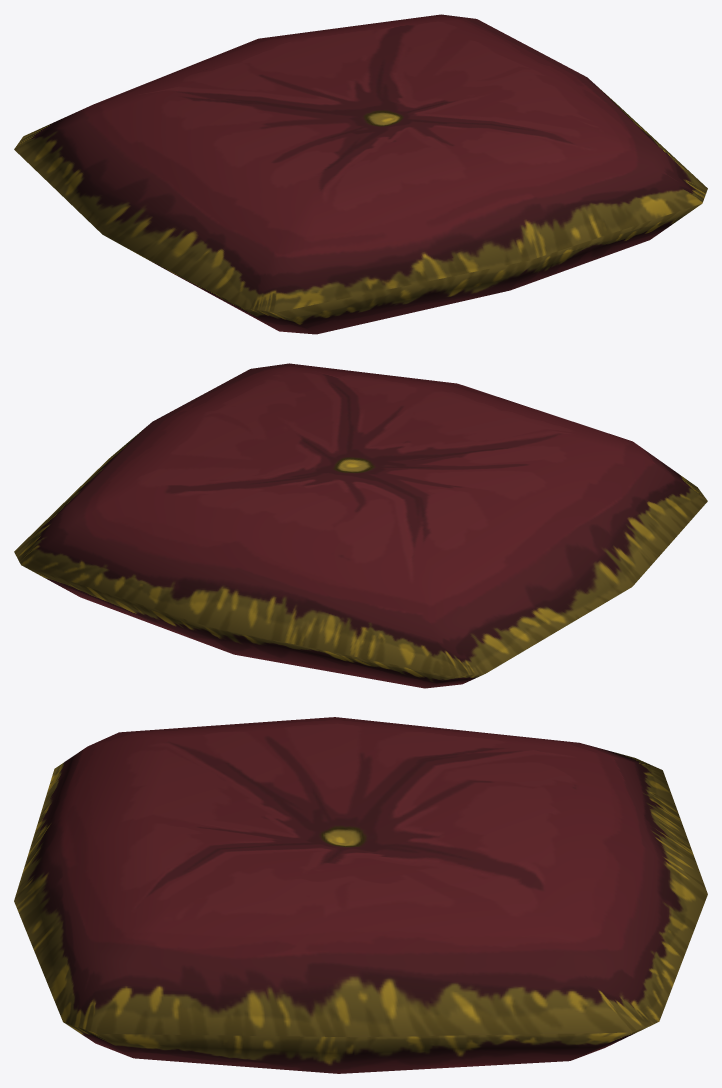
Rendered from SM_PROP_pillow_interior_01.fbx.
3 renders of one model, top to bottom at view 1: azimuth 30°, elevation 25°; view 2: azimuth 150°, elevation 25°; view 3: azimuth 270°, elevation 25°, orthographic. The views are drawn at different scales.
Parts seen in each view (by area): view 1: SM_PROP_pillow_interior_01; view 2: SM_PROP_pillow_interior_01; view 3: SM_PROP_pillow_interior_01.
Part boxes in pixels (box(x1,y1,x2,y2)): SM_PROP_pillow_interior_01: box(14, 14, 707, 334); SM_PROP_pillow_interior_01: box(14, 363, 707, 688); SM_PROP_pillow_interior_01: box(14, 717, 707, 1073).
Size of the model in its own units: 50.51 by 10.82 by 47.99.
